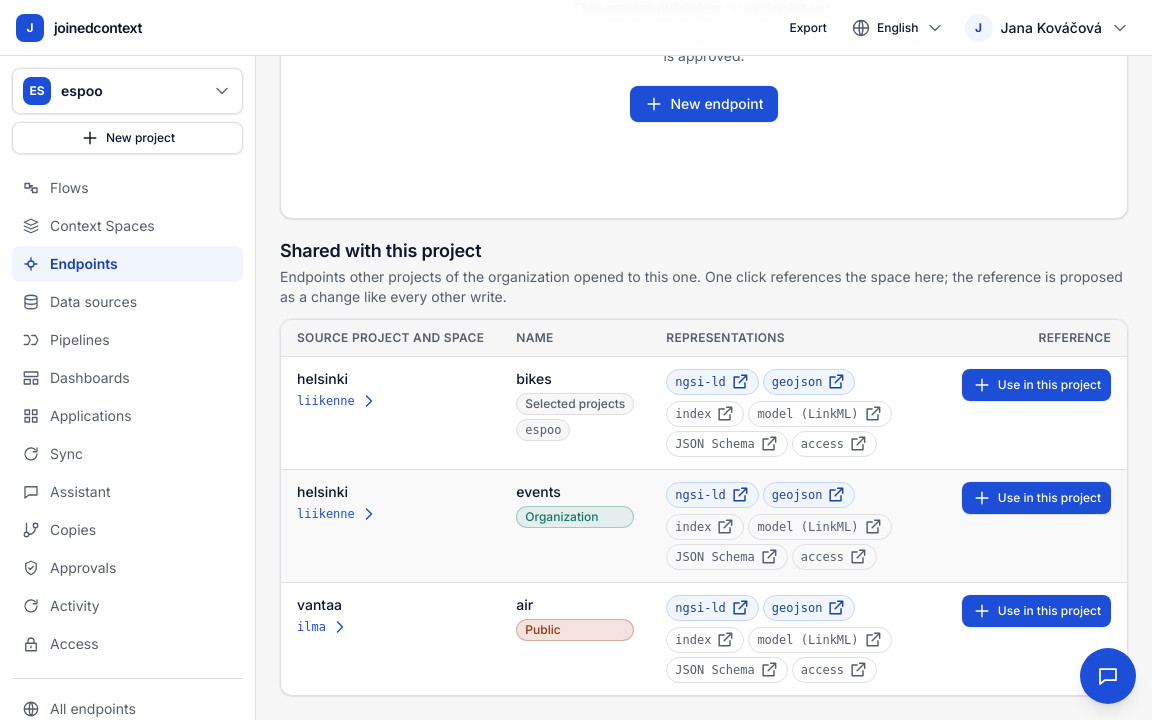
endpoint sharing › references a shared endpoint with one click through the write API
This screenshot has width=1152, height=720.
(page scrolled)
Expected: the text "bikes" is shown, [516,370,552,387]
Click the button "Use in this project" in the row of "bikes".
click(1036, 385)  # box [962,369,1111,401]
(page scrolled)
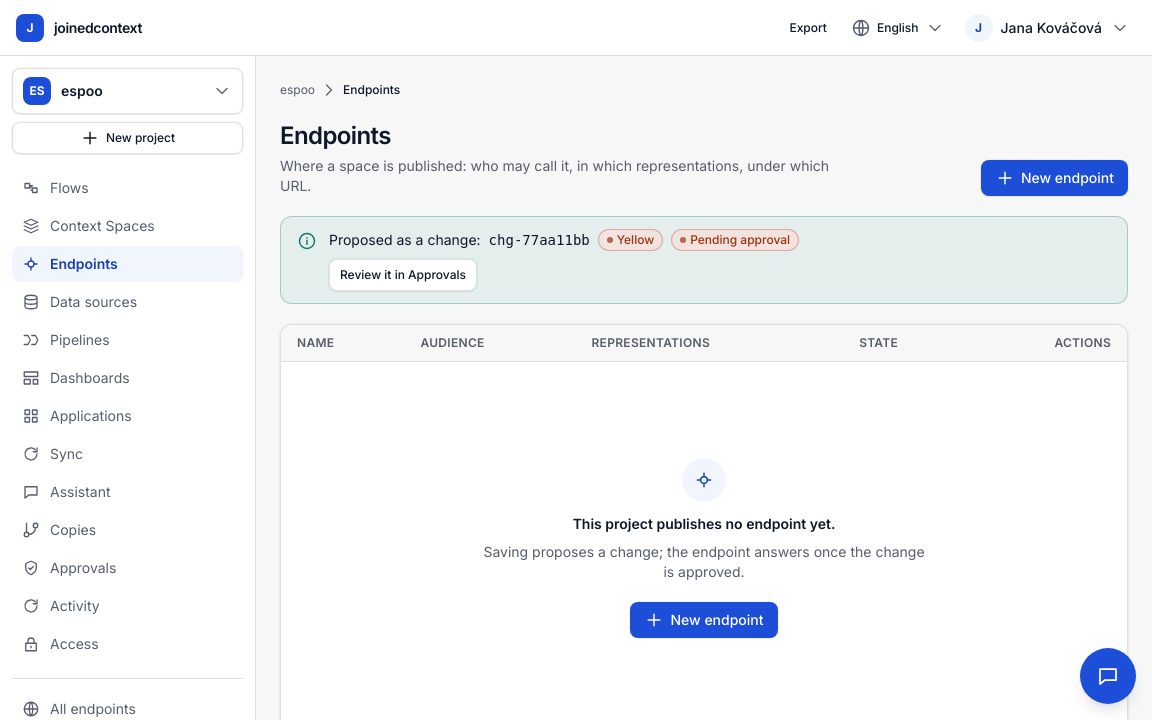
Expected: the text "chg-77aa11bb" is shown, [489,230,590,250]
